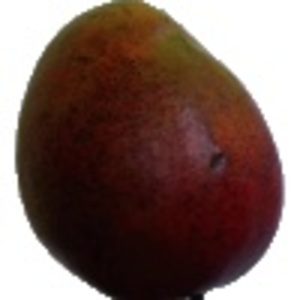manga: (16, 1, 286, 300)
